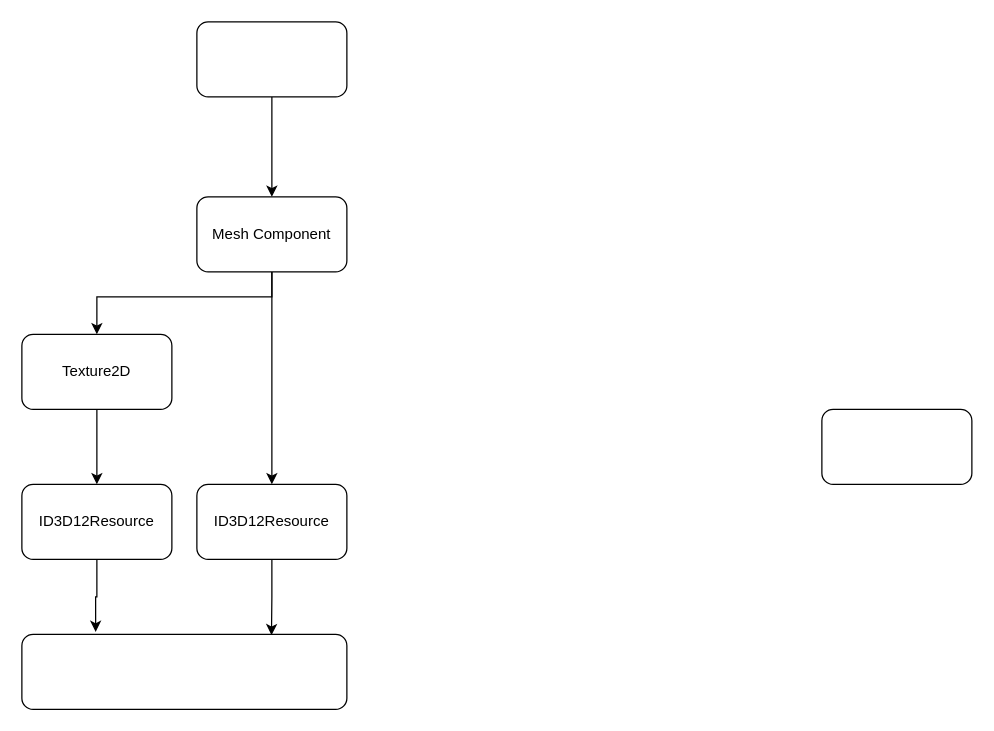
The diagram is 994 pixels wide and 731 high, and some of its shapes have lost their labels. Here are the shapes that lost their labels. From the top down, the centre of each, then its label:
[271,59]: Panel2D
[184,671]: Shader Inputs
